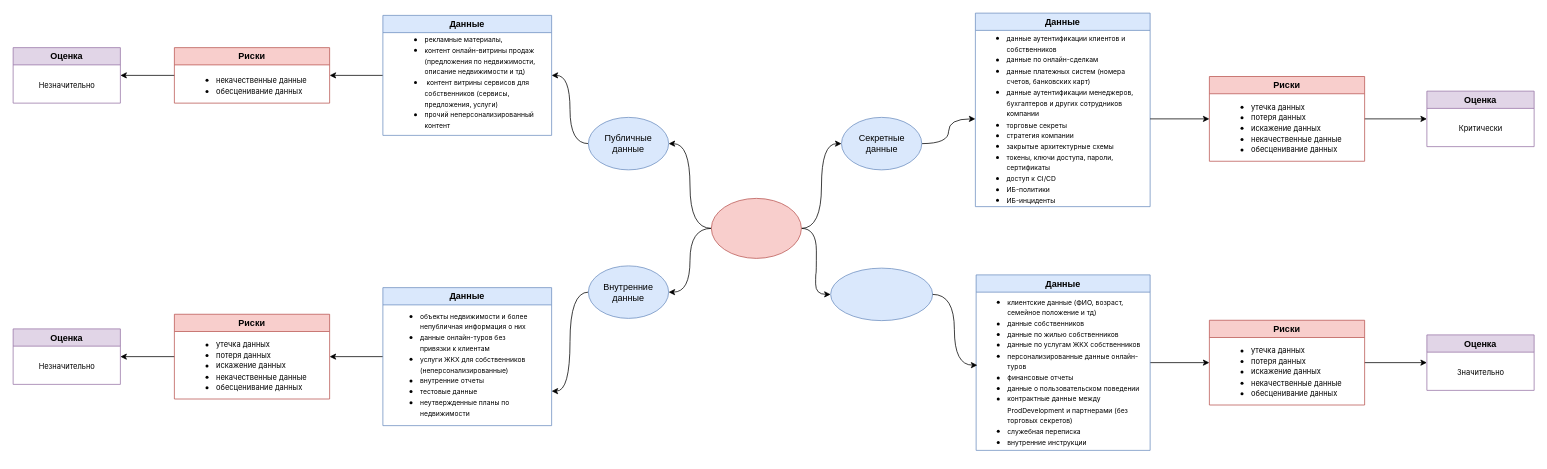
Some shapes in this 1547 by 469 pixel diagram are drawn without their labels. The centre of each missing label's shape, as x and y in pixels:
Безопасность данных: the point at 756,228
Конфиденциальные данные: the point at 881,294
